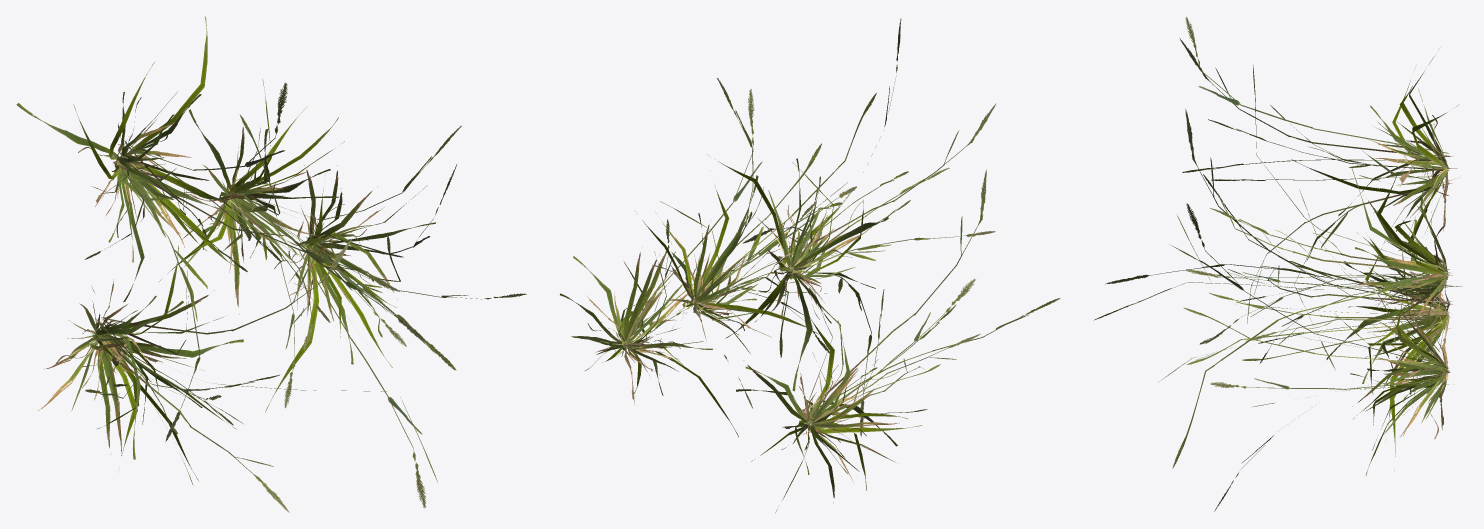
The model's file is Tall_Grass_02_Var3_LOD1.fbx.
3 views of the same model, side by side, from view 1: azimuth 30°, elevation 25°; view 2: azimuth 150°, elevation 25°; view 3: azimuth 270°, elevation 25° (orthographic). The views are drawn at different scales.
Parts seen in each view (by area): view 1: Var3_LOD1; view 2: Var3_LOD1; view 3: Var3_LOD1.
Boxes of the visible parts, x1,y1,x2,y2 form: Var3_LOD1: [16, 16, 526, 512]; Var3_LOD1: [560, 18, 1060, 512]; Var3_LOD1: [1094, 16, 1462, 511].
Bounding box in the file's own units: 119 × 121 × 92.88.
